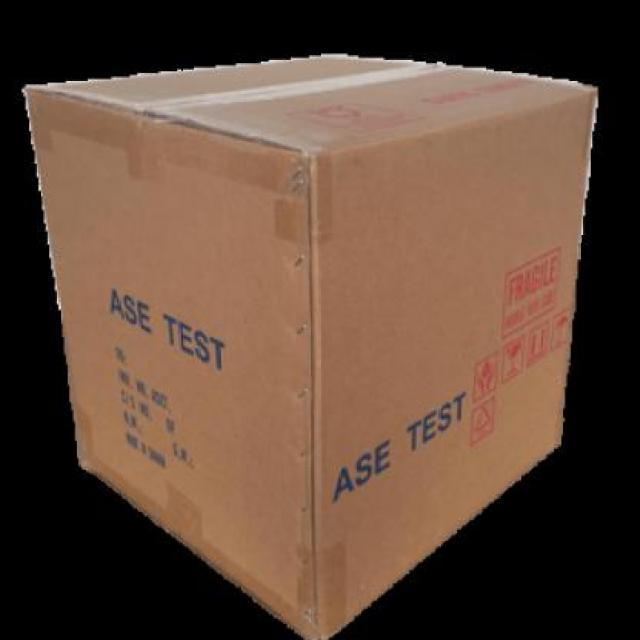box: (15, 35, 612, 640)
